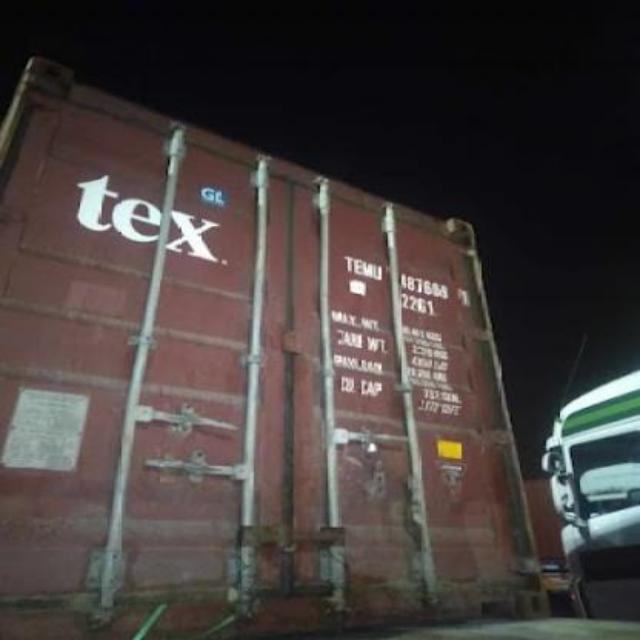0: (432, 282, 440, 298)
1: (460, 290, 470, 306)
4: (398, 273, 408, 289)
6: (424, 279, 432, 295)
7: (416, 278, 424, 292)
8: (408, 276, 416, 292)
9: (440, 284, 450, 300)
E: (354, 259, 364, 275)
M: (362, 261, 374, 279)
T: (344, 256, 354, 272)
U: (372, 265, 382, 281)
